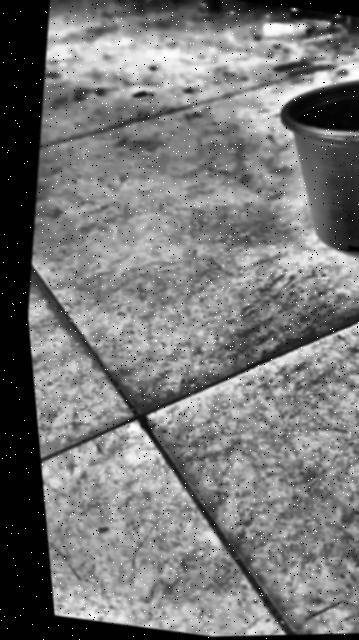pot: (255, 59, 359, 259)
